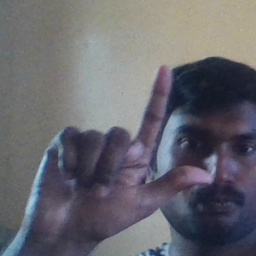L: (22, 64, 211, 244)
